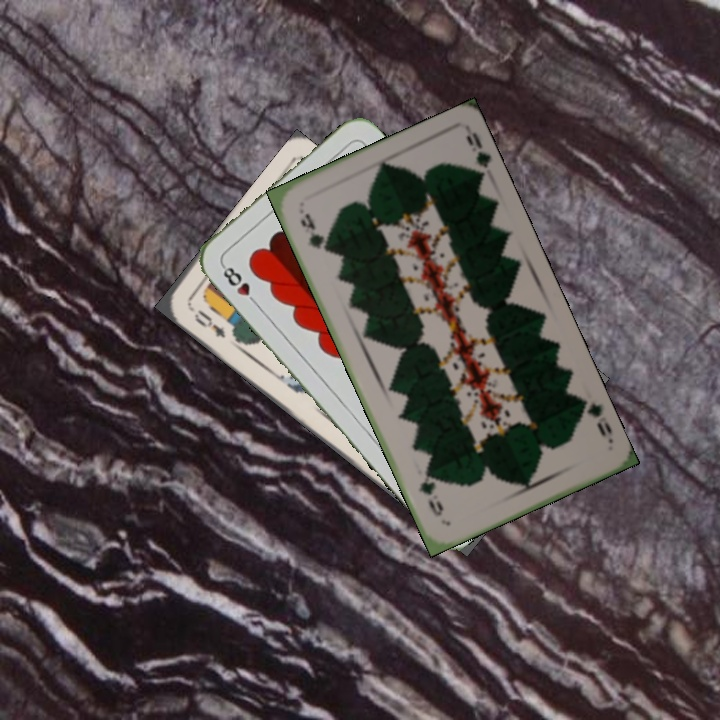EO: (190, 305, 229, 341)
G9: (573, 395, 615, 439), (296, 208, 330, 254)
H8: (217, 260, 261, 309)
